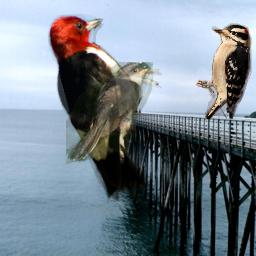Cuckoo: (66, 62, 153, 164)
Woodpecker: (47, 14, 162, 204), (195, 22, 252, 119)
